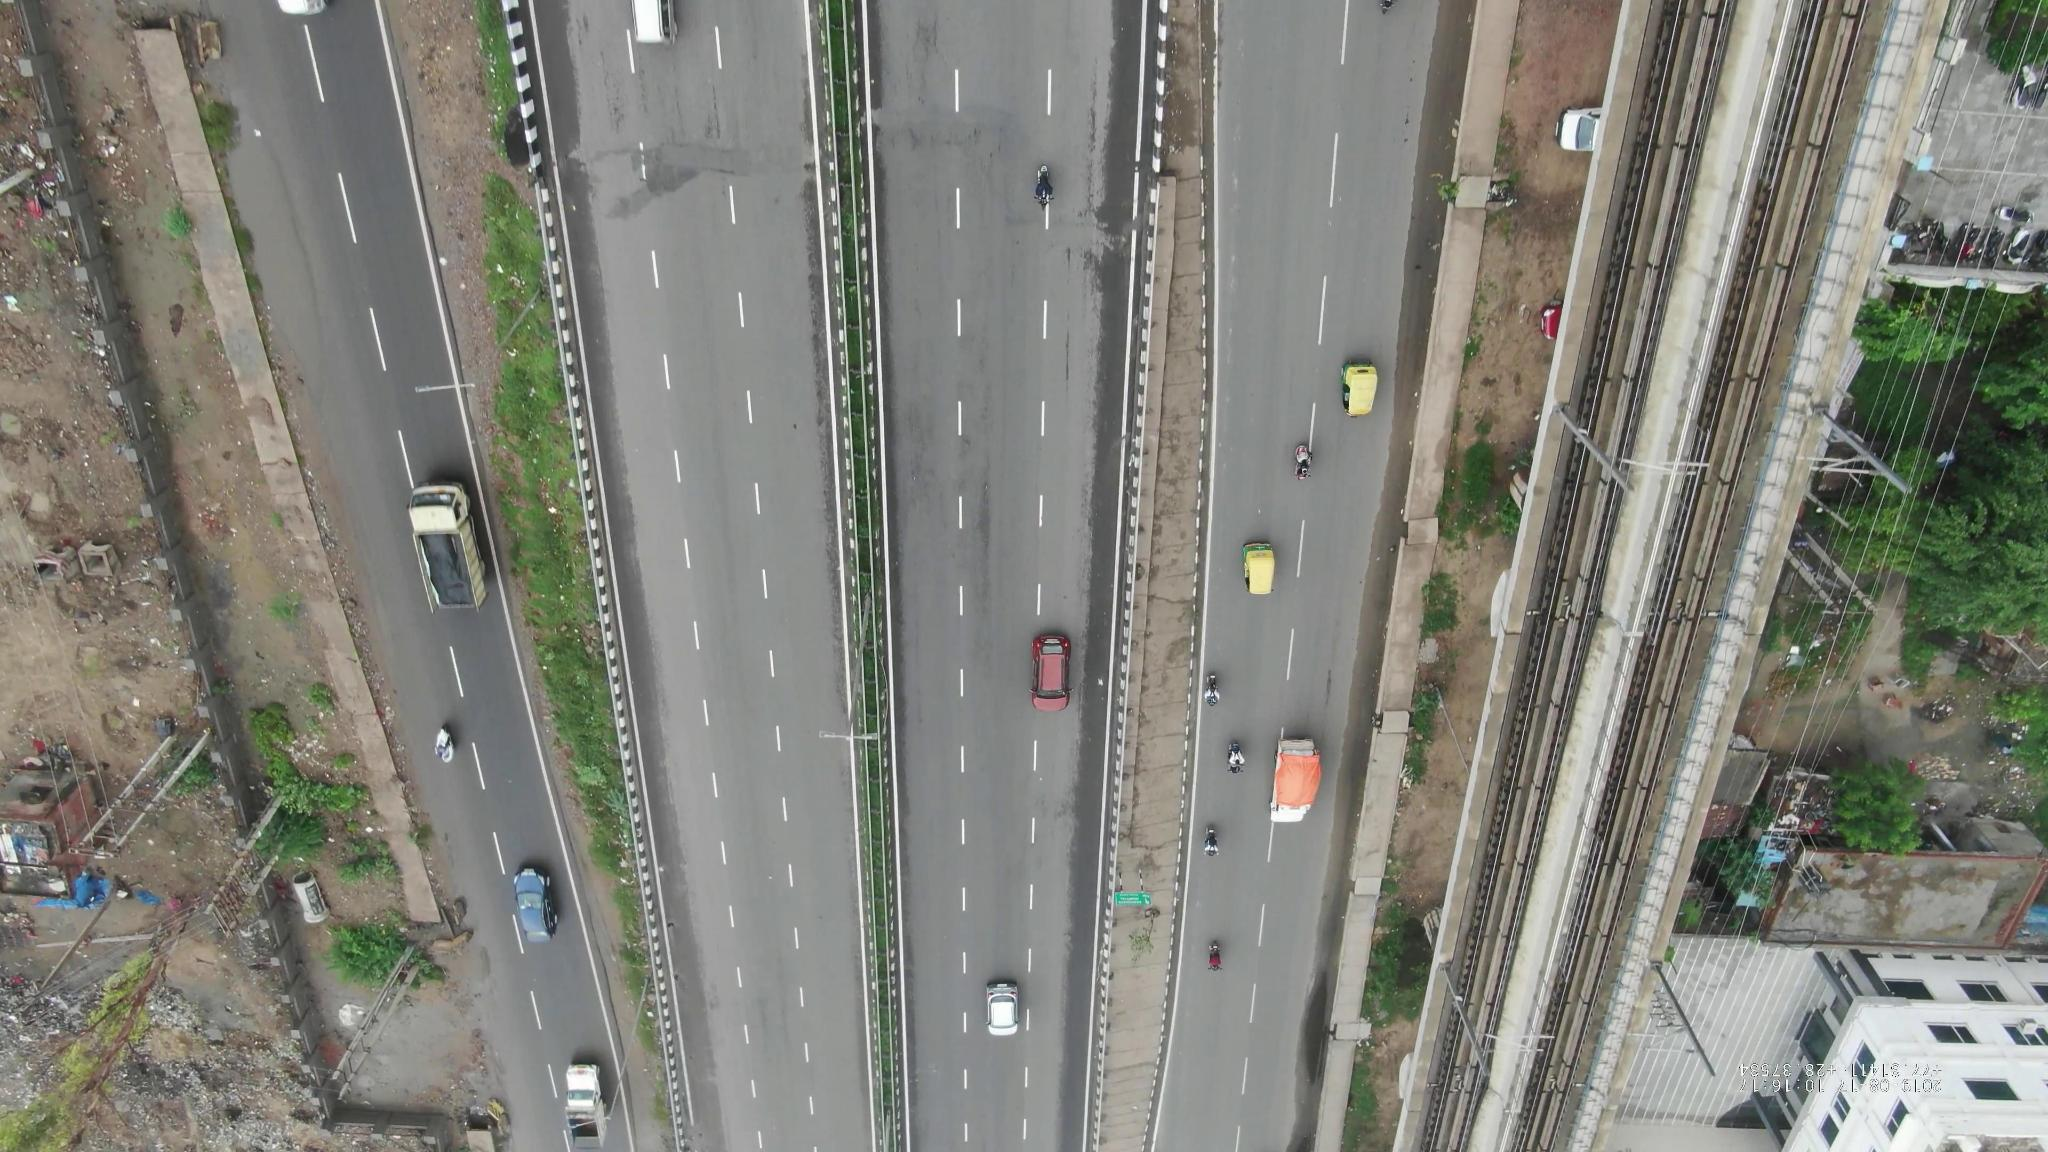Potholes: (890, 96, 1037, 173), (633, 127, 779, 198)
